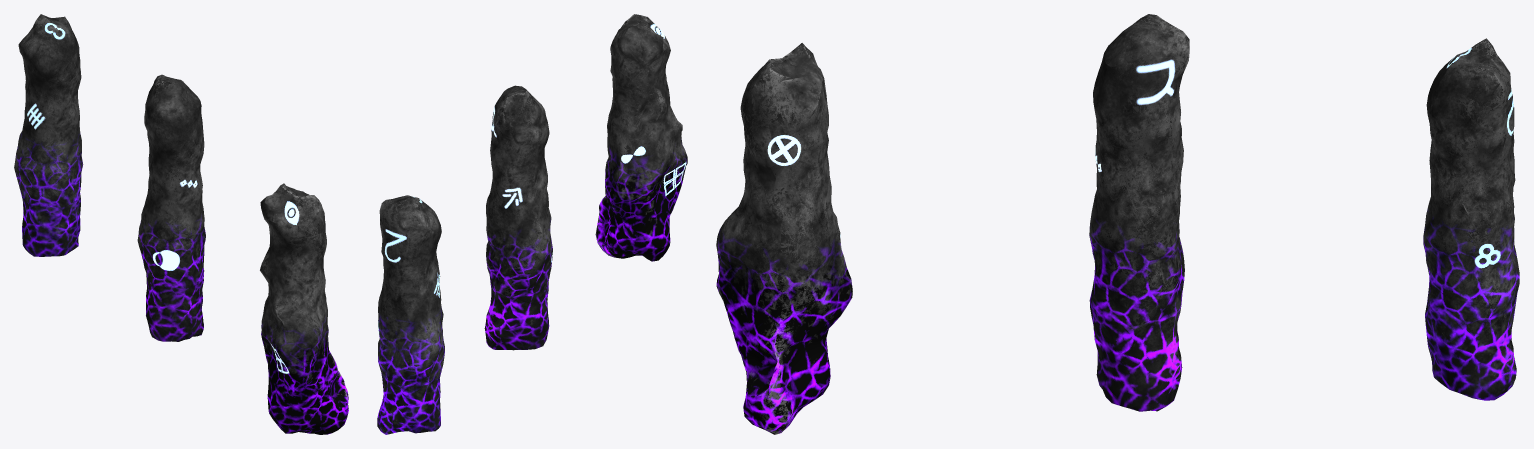
File: Obelisks.fbx
3 renders of one model, left to right at view 1: azimuth 30°, elevation 25°; view 2: azimuth 150°, elevation 25°; view 3: azimuth 270°, elevation 25°, orthographic. The views are drawn at different scales.
Parts seen in each view (by area): view 1: Rock3, Rock1, Rock2; view 2: Rock3, Rock1, Rock2; view 3: Rock3, Rock1, Rock2.
Part boxes in pixels (x1=…): Rock3: x1=260, y1=183, x2=348, y2=434; Rock1: x1=137, y1=74, x2=205, y2=341; Rock2: x1=14, y1=14, x2=83, y2=256; Rock3: x1=595, y1=14, x2=687, y2=261; Rock1: x1=484, y1=85, x2=552, y2=350; Rock2: x1=377, y1=195, x2=444, y2=434; Rock3: x1=716, y1=43, x2=852, y2=434; Rock1: x1=1089, y1=14, x2=1189, y2=411; Rock2: x1=1423, y1=38, x2=1519, y2=400.
Bounding box in the file's own units: 800 × 2339 × 4377.
